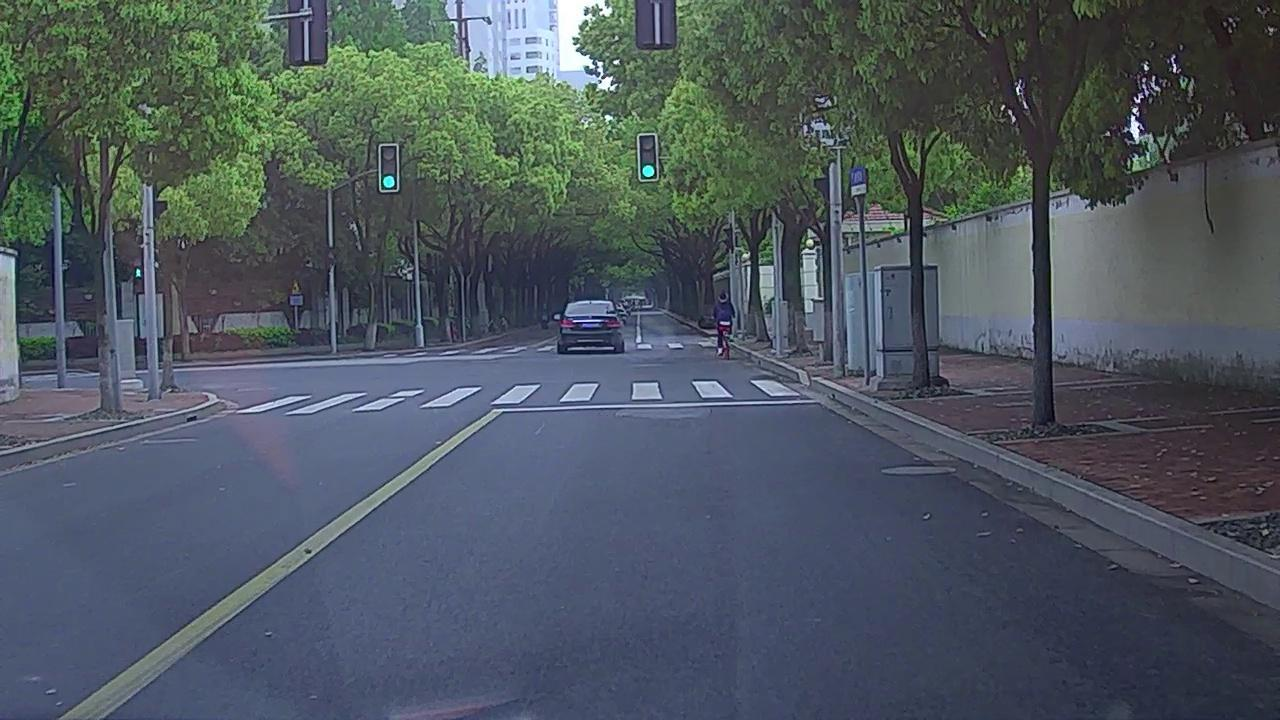traffic_light: (638, 133, 658, 180), (380, 144, 399, 191)
